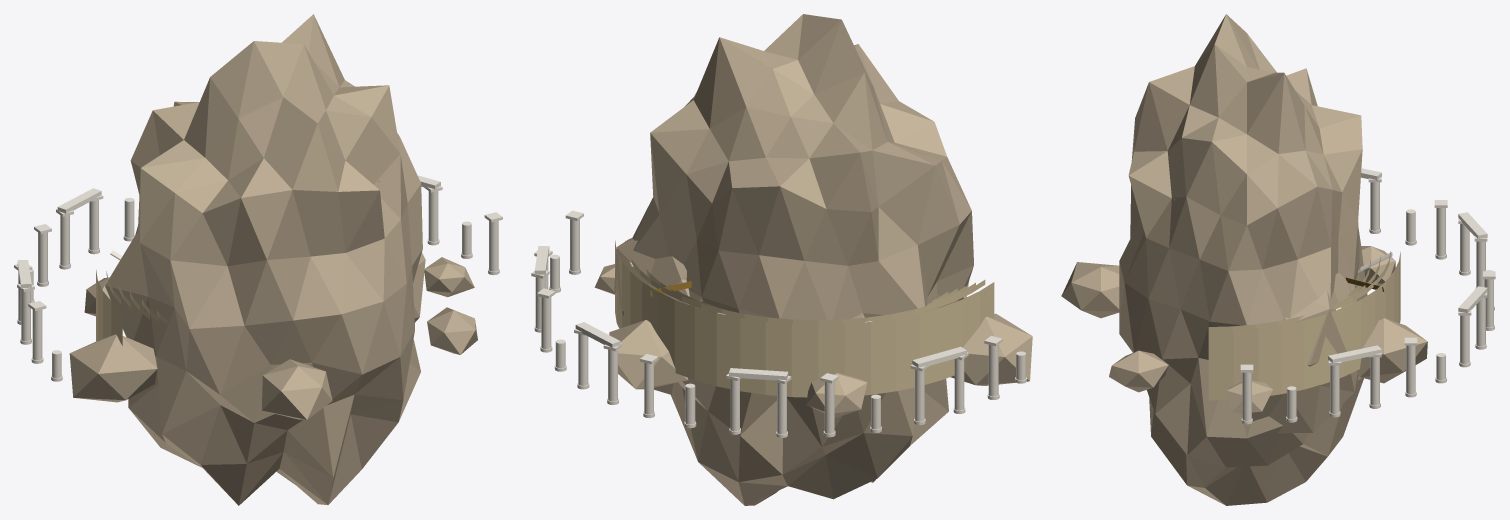
The model's file is city_cyprus.glb.
3 views of the same model, side by side, from view 1: azimuth 30°, elevation 25°; view 2: azimuth 150°, elevation 25°; view 3: azimuth 270°, elevation 25° (orthographic). The views are drawn at different scales.
Visible parts, largest first — view 1: L_rock, L_kourion; view 2: L_rock, L_kourion; view 3: L_rock, L_kourion.
Boxes of the visible parts, left/top/right/bottom form: L_rock: left=69, top=14, right=477, bottom=505; L_kourion: left=14, top=175, right=502, bottom=381; L_rock: left=594, top=14, right=1032, bottom=505; L_kourion: left=531, top=210, right=1026, bottom=437; L_rock: left=1061, top=14, right=1427, bottom=505; L_kourion: left=1208, top=168, right=1495, bottom=424.
Size of the model in its own units: 77.86 by 79.61 by 67.86.
